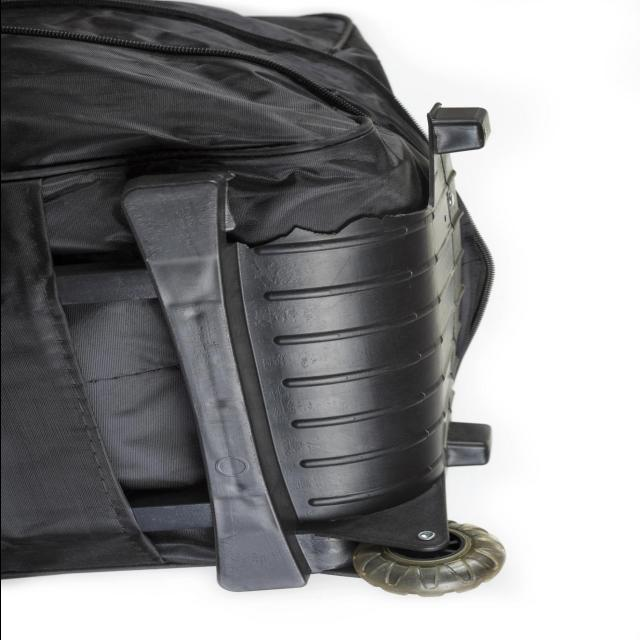Damage-bag: (230, 104, 488, 294)
